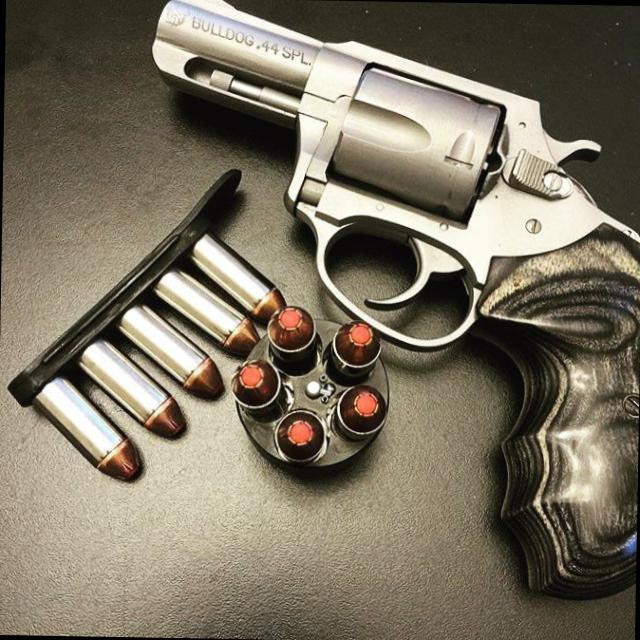Gun: (104, 0, 640, 616)
